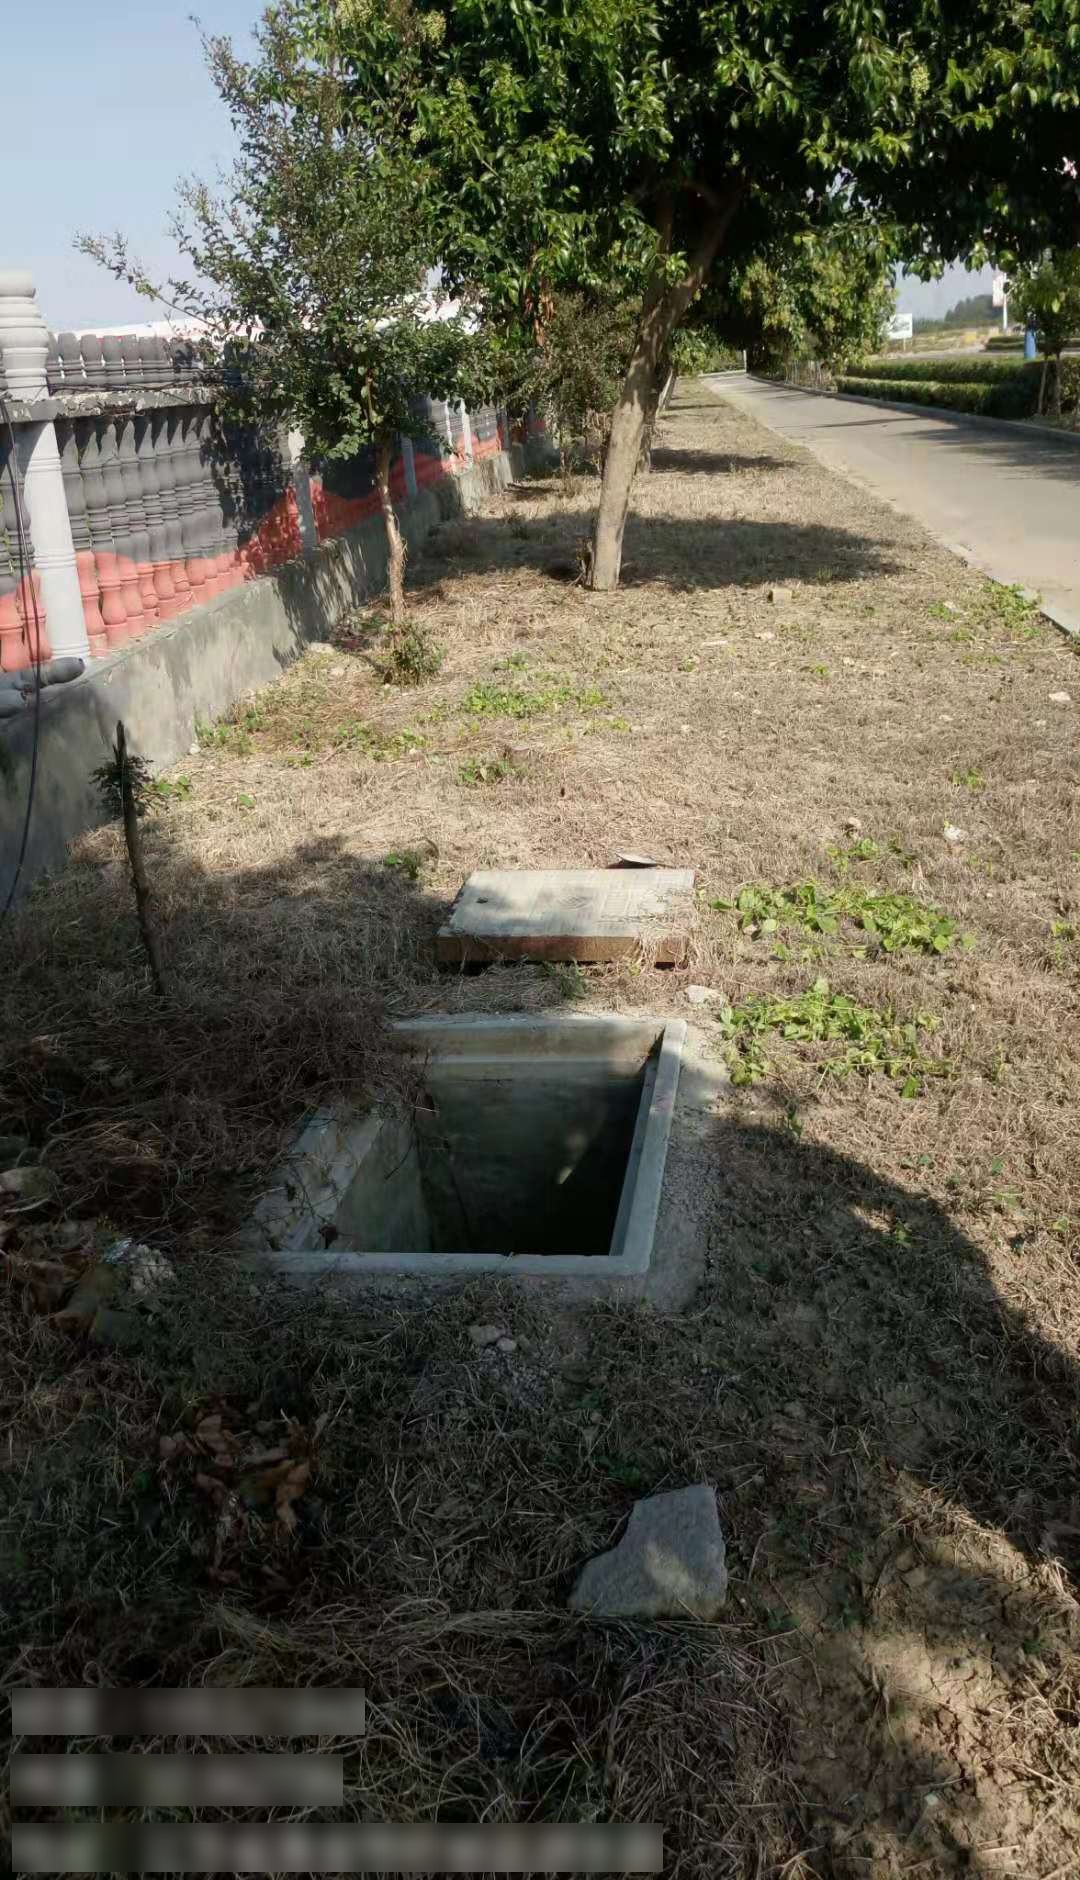lose: (221, 1011, 686, 1282)
